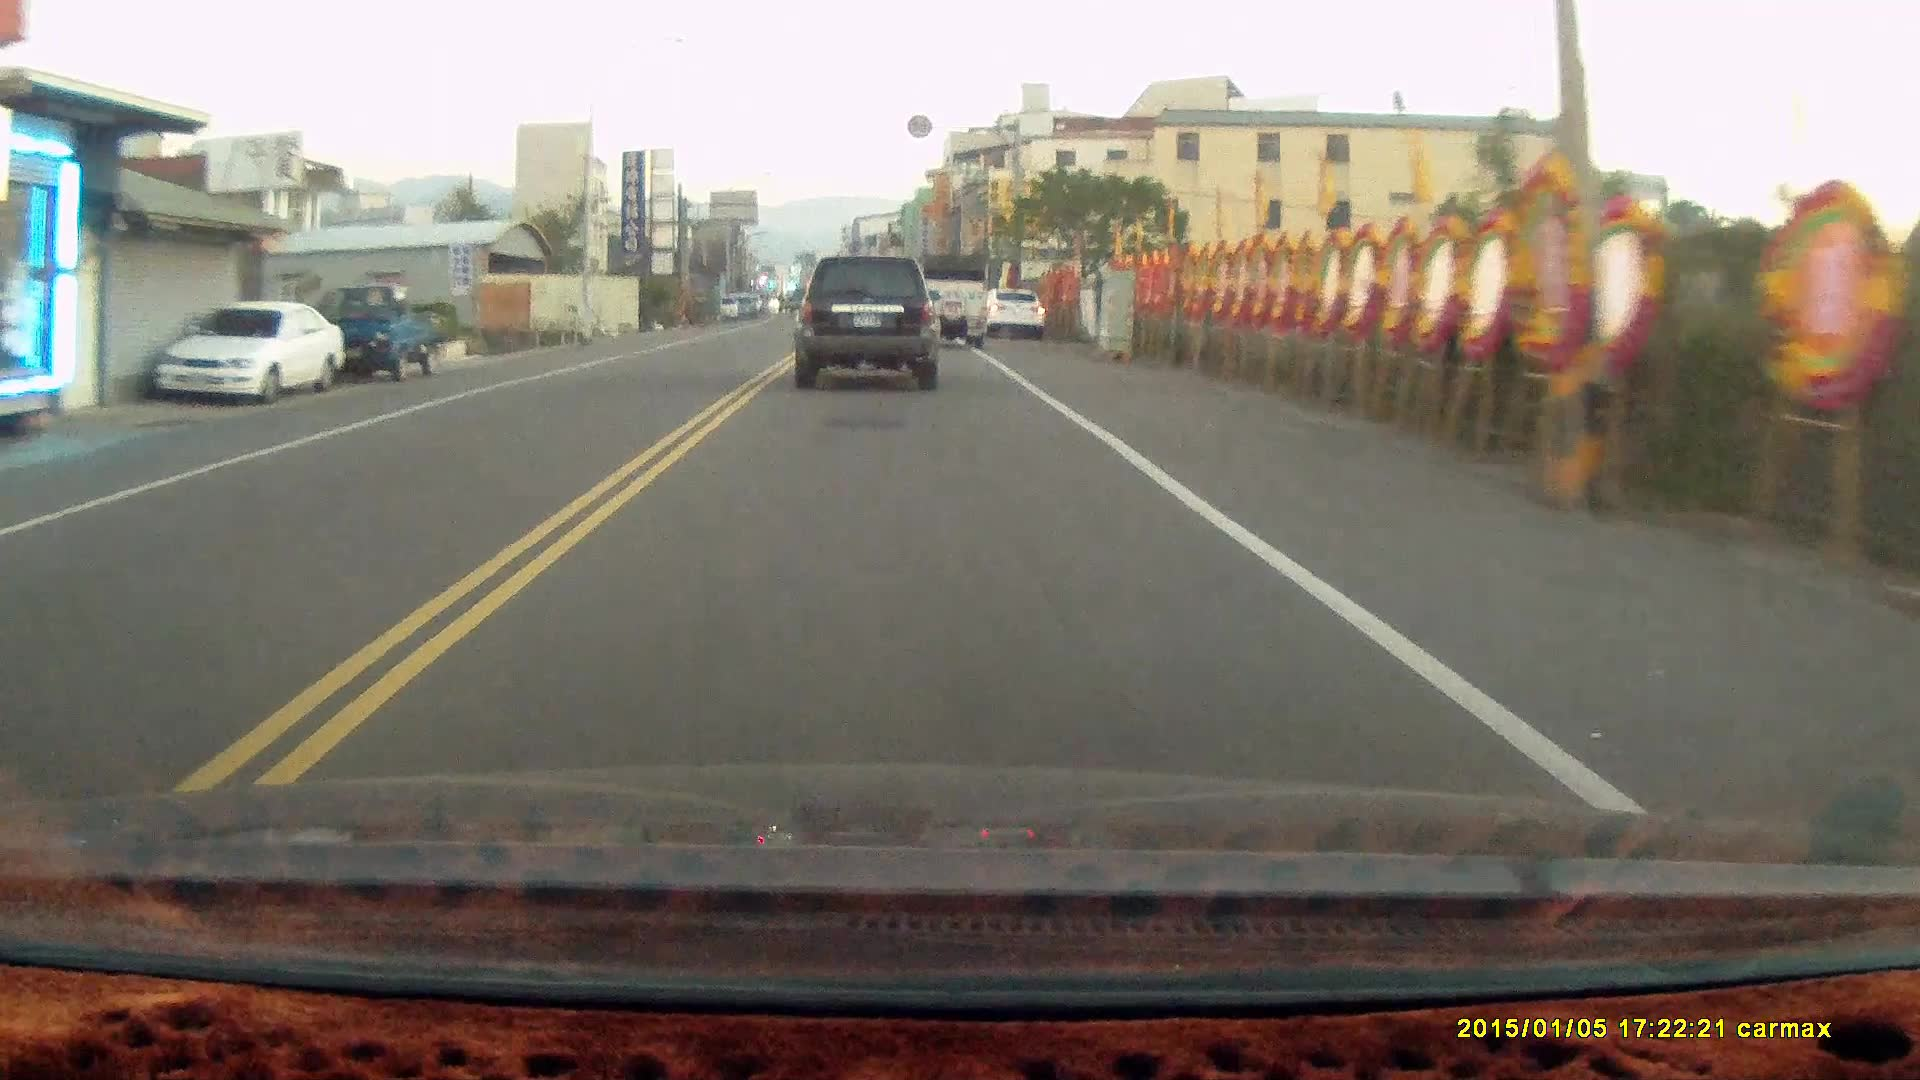vehicle: (796, 255, 945, 394), (150, 301, 343, 406), (315, 287, 454, 388), (916, 256, 993, 352), (986, 287, 1047, 344)
